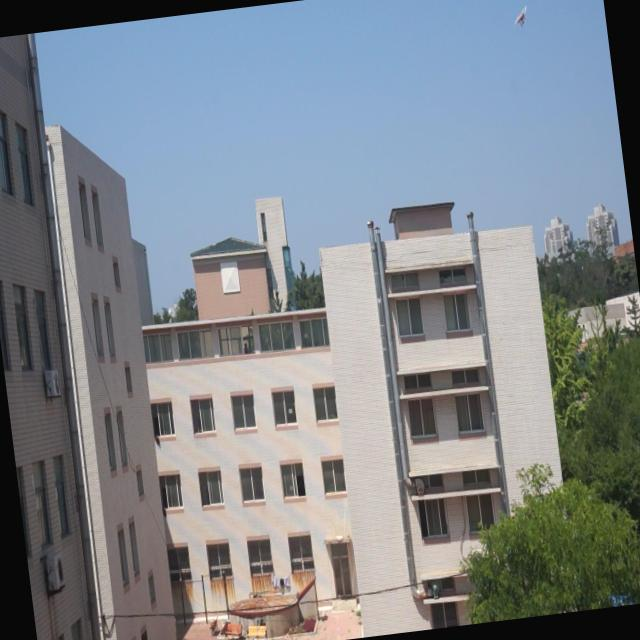drone: (510, 2, 531, 32)
